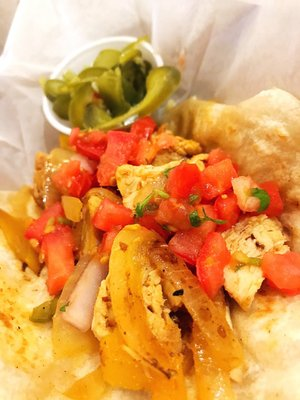sushi: (40, 36, 182, 137)
